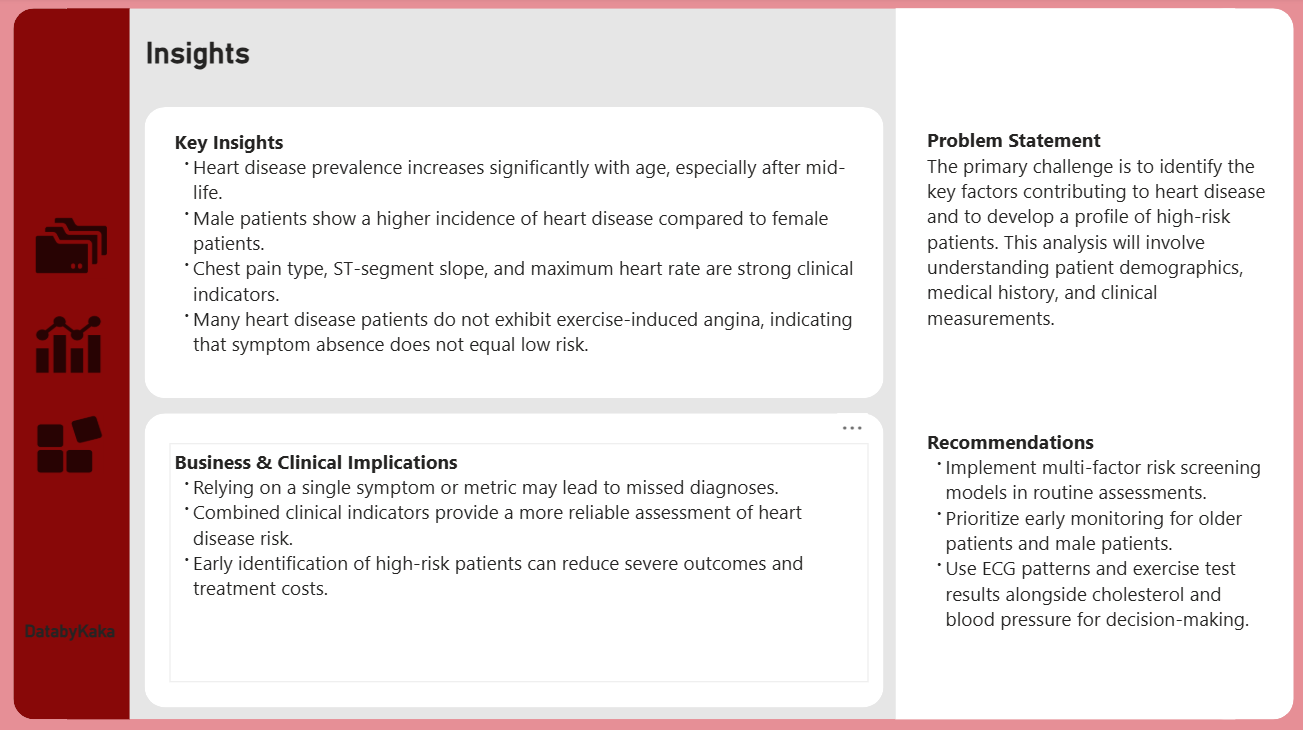

The dashboard page shown, as its layout file describes it:
{"tool":"powerbi","page":{"name":"Insight ","canvas":[1280,720],"ordinal":2},"visuals":[{"type":"group","id":"g1","title":"Background ","box":[0,0,1280.3,720.4],"z":0},{"type":"shape","title":"Background 1","box":[0,0,1280.3,720.4],"z":0,"group":"g1"},{"type":"shape","box":[1179.6,11,88.4,695.8],"z":0,"group":"g3"},{"type":"shape","box":[15.3,11.1,71,695.7],"z":0,"group":"g2"},{"type":"shape","box":[879.2,11,332.1,695.7],"z":1000,"group":"g3"},{"type":"shape","title":"Background 2","box":[15.3,11.1,1252.2,695.7],"z":1000,"group":"g1"},{"type":"group","id":"g2","title":"Left bar","box":[15.3,11.1,114.1,695.7],"z":1000},{"type":"shape","box":[68.2,11.1,61.2,695.7],"z":1000,"group":"g2"},{"type":"group","id":"g3","title":"Right bar","box":[879.2,11,388.9,695.8],"z":2000},{"type":"group","id":"g4","title":"Navigation button ","box":[36.2,210.1,71,256],"z":3000},{"type":"shape","box":[144.6,107,723,284.9],"z":4000},{"type":"textbox","box":[169.2,122.9,682.5,255.9],"z":6000},{"type":"actionButton","box":[37.6,210.1,69.6,65.4],"z":7000,"group":"g4"},{"type":"shape","box":[144.6,407.8,723,287.8],"z":7000},{"type":"actionButton","box":[36.2,310.3,66.8,58.4],"z":8000,"group":"g4"},{"type":"textbox","box":[169.2,436.7,682.5,232.8],"z":8000},{"type":"shape","box":[896.3,84.4,348.5,589.4],"z":9000},{"type":"actionButton","box":[37.6,407.7,66.8,58.4],"z":9000,"group":"g4"},{"type":"textbox","box":[904.9,417,347.3,253.1],"z":10000},{"type":"textbox","box":[140.6,33,518.5,47.7],"z":10500},{"type":"textbox","box":[21.7,605.9,101.2,44.8],"z":10501},{"type":"textbox","box":[904.9,122.3,348.5,240.9],"z":10503}]}

Visuals, with their boxes in screenshot pixels (x1, y1, x2, y2), scaled from the page's 1280x720 canvas onto the 1303x730 screenshot:
"Background " group: <box>0,0,1302,729</box>
"Background 1" shape: <box>0,0,1302,729</box>
shape: <box>1201,11,1291,717</box>
shape: <box>16,11,88,717</box>
shape: <box>895,11,1233,717</box>
"Background 2" shape: <box>16,11,1290,717</box>
"Left bar" group: <box>16,11,132,717</box>
shape: <box>69,11,132,717</box>
"Right bar" group: <box>895,11,1291,717</box>
"Navigation button " group: <box>37,213,109,473</box>
shape: <box>147,108,883,397</box>
textbox: <box>172,125,867,384</box>
actionButton: <box>38,213,109,279</box>
shape: <box>147,413,883,705</box>
actionButton: <box>37,315,105,374</box>
textbox: <box>172,443,867,679</box>
shape: <box>912,86,1267,683</box>
actionButton: <box>38,413,106,473</box>
textbox: <box>921,423,1275,679</box>
textbox: <box>143,33,671,82</box>
textbox: <box>22,614,125,660</box>
textbox: <box>921,124,1276,368</box>
